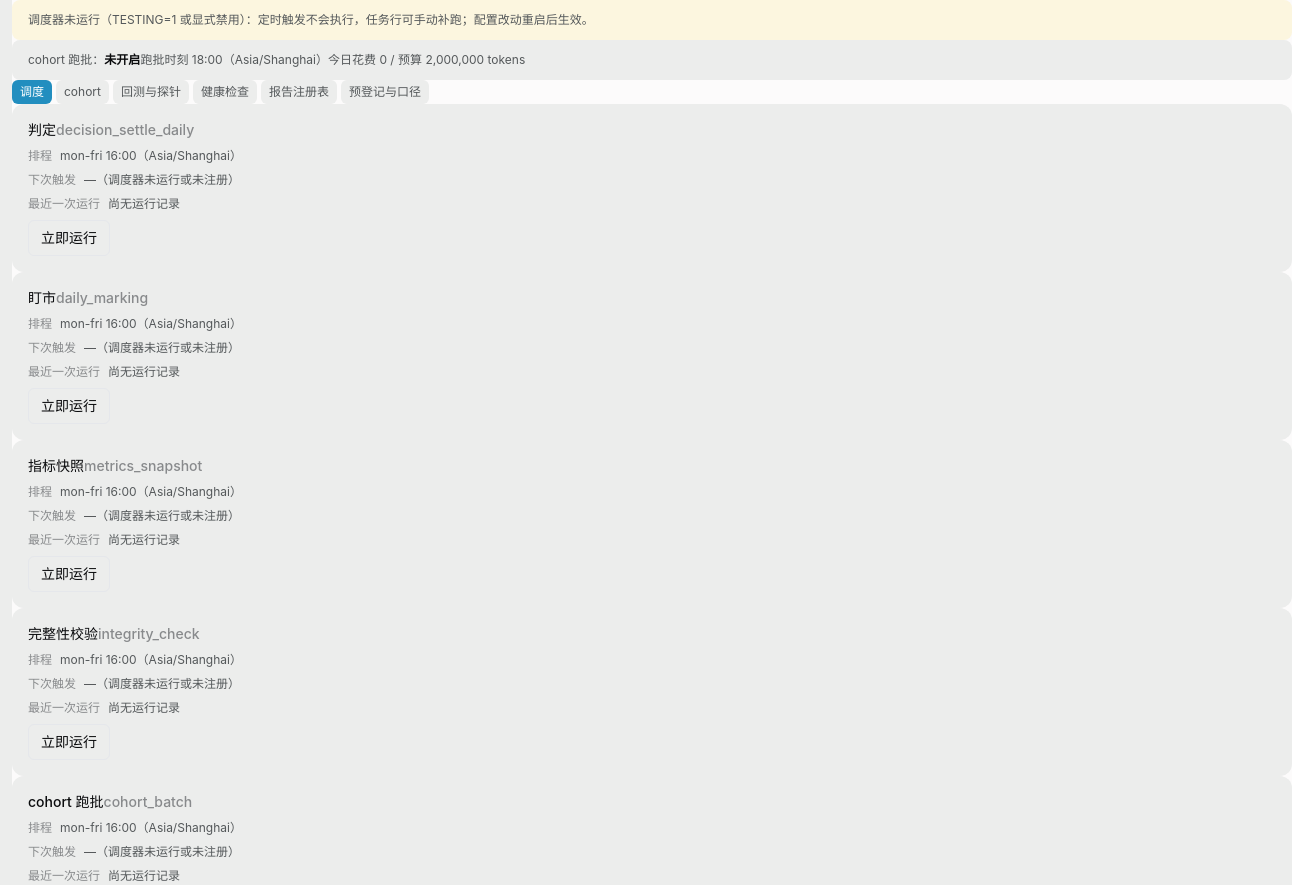
Scenario: EvalOpsPane 评估运维分区（add-eval-ops-console Task 6） › 手动补跑 500（run_failed 详情）必须可见，不被吞成通用文案
The width and height of the screenshot is (1292, 885).
Click the button with test id "eval-ops-run-integrity_check".
click(69, 742)  # box [28,724,110,760]
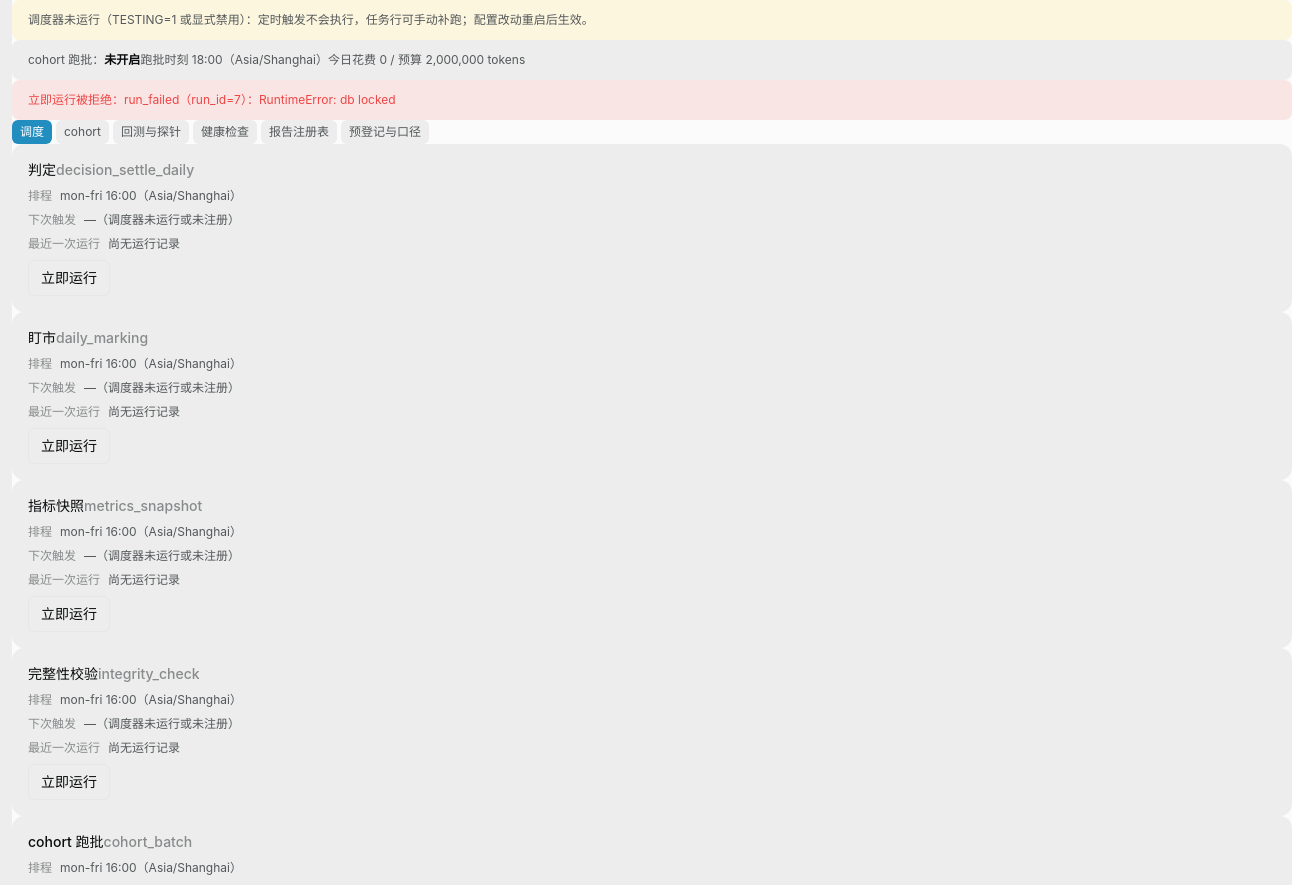
Expected: the text with test id "eval-ops-error" shows "run_failed", [28,92,396,107]
Expected: the text with test id "eval-ops-error" shows "run_id=7", [28,92,396,107]
Expected: the text with test id "eval-ops-error" shows "db locked", [28,92,396,107]
